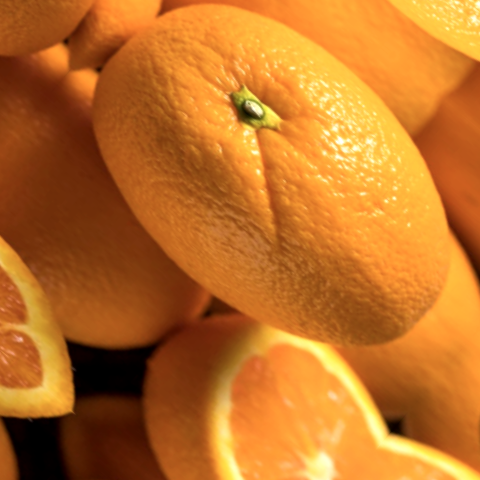orange: (12, 0, 480, 437)
